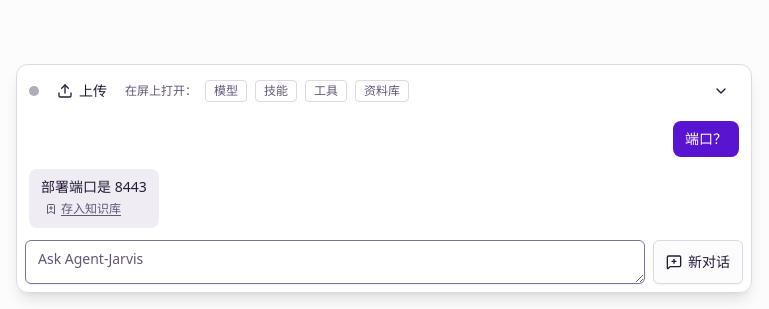
FloatingChat › skill intake (TEST-044) › REQ-F-046 ②: every finished reply carries a named 存入知识库 button that posts the reply text
Click the button with class "floating-chat__save-knowledge": (83, 209) [41, 201, 125, 217]
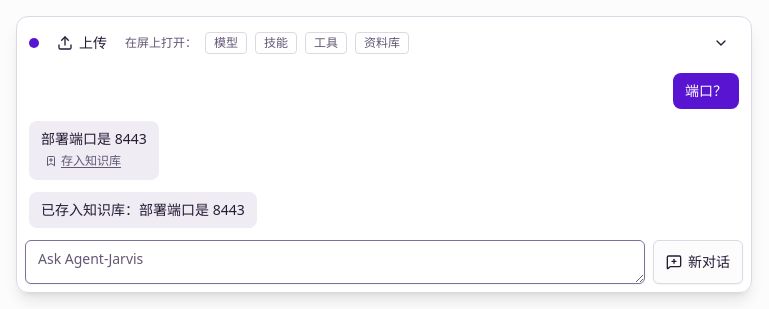
Now the text "已存入知识库：部署端口是 8443" is shown, box [29, 192, 257, 228]
